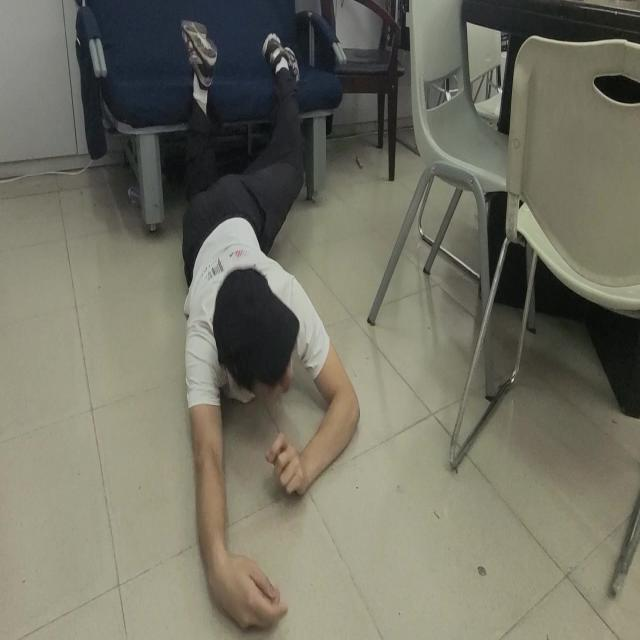Fall: (178, 19, 361, 636)
